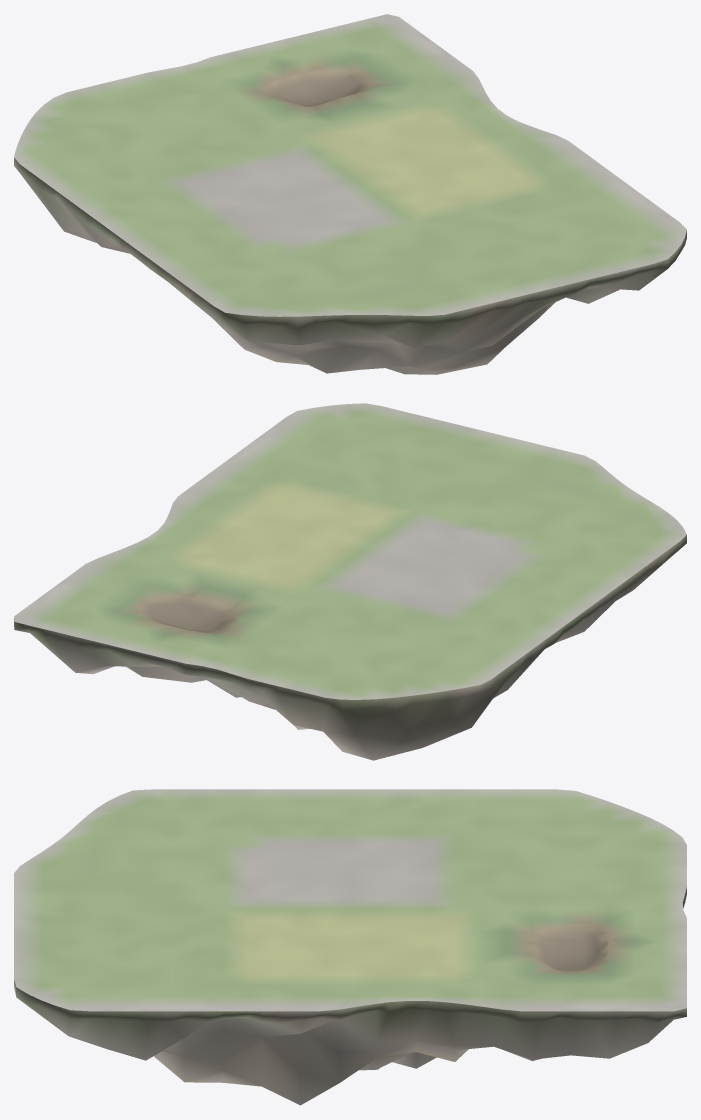
File: SKY-009.rock.glb
The picture shows the model from 3 angles, top to bottom: view 1: azimuth 30°, elevation 25°; view 2: azimuth 150°, elevation 25°; view 3: azimuth 270°, elevation 25°; orthographic projection. The views are drawn at different scales.
Parts seen in each view (by area): view 1: deck-col, rock; view 2: deck-col, rock; view 3: deck-col, rock.
Part boxes in pixels (box(x1,y1,x2,y2)): deck-col: box(14, 14, 686, 316); rock: box(14, 157, 686, 374); deck-col: box(14, 403, 686, 699); rock: box(14, 535, 686, 760); deck-col: box(14, 789, 686, 1011); rock: box(14, 887, 686, 1105).
Bounding box in the file's own units: 81.45 × 31.05 × 104.
